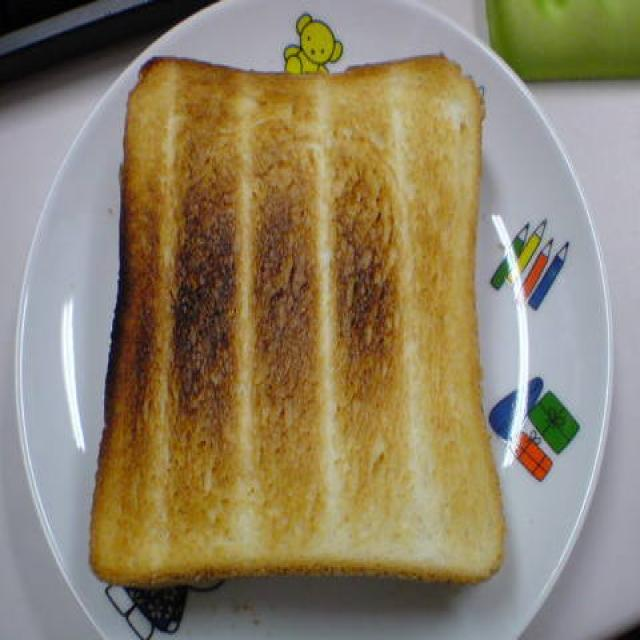面包点心: (93, 48, 512, 572)
